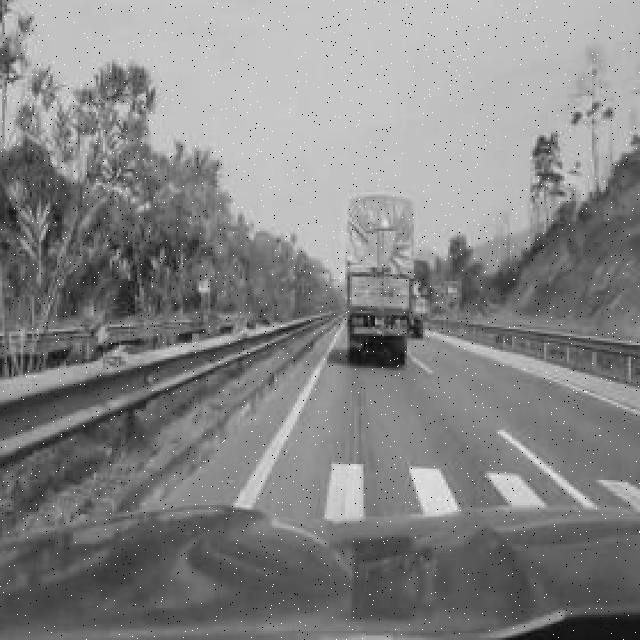clear-road: (254, 337, 640, 520)
